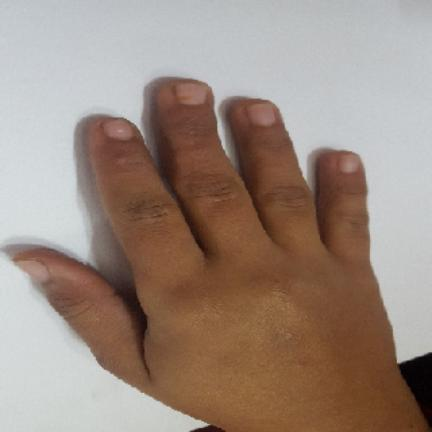Nail: (15, 260, 49, 284), (246, 102, 277, 127), (176, 83, 208, 105), (102, 119, 133, 141), (338, 154, 360, 174)
